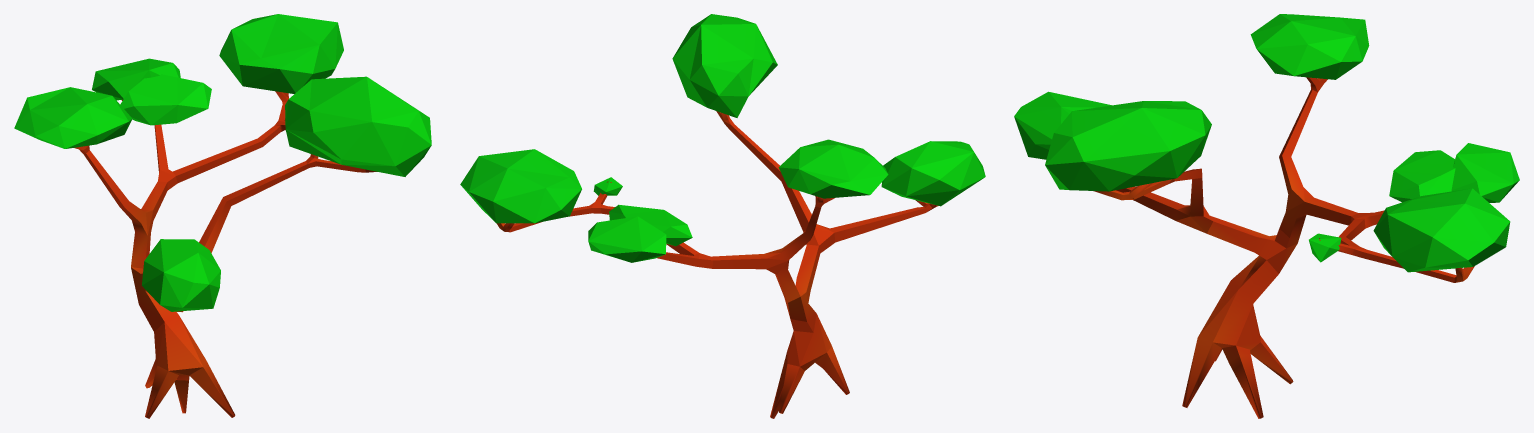
The model's file is tree2.fbx.
The picture shows the model from 3 angles, left to right: view 1: azimuth 30°, elevation 25°; view 2: azimuth 150°, elevation 25°; view 3: azimuth 270°, elevation 25°; orthographic projection. The views are drawn at different scales.
Visible parts, largest first — view 1: Icosphere.001; view 2: Icosphere.001; view 3: Icosphere.001.
Boxes of the visible parts, left/top/right/bottom form: Icosphere.001: left=14, top=14, right=431, bottom=418; Icosphere.001: left=460, top=14, right=985, bottom=418; Icosphere.001: left=1014, top=14, right=1519, bottom=418.
Bounding box in the file's own units: 2560 × 2263 × 2729.
